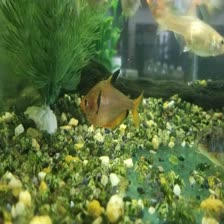Guppy: (153, 2, 223, 58)
Transparente: (75, 70, 154, 131)
